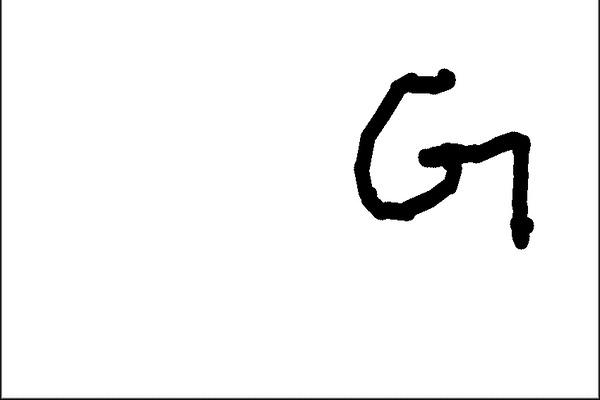G: (348, 61, 537, 253)
